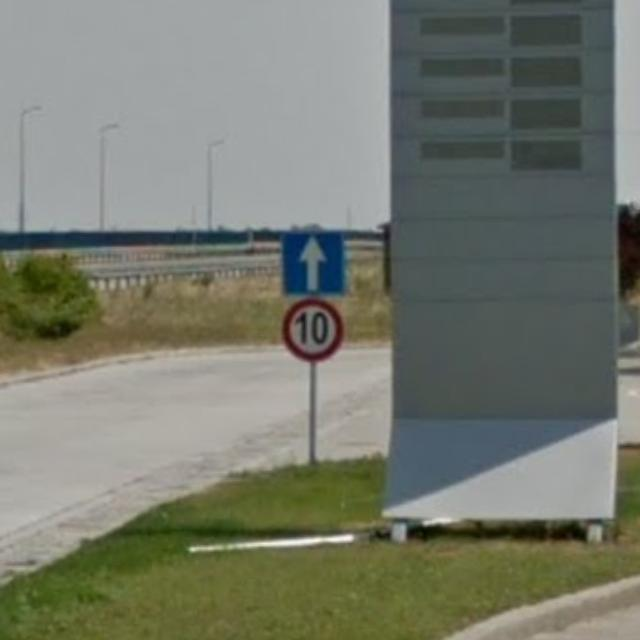forb_speed_over_10: (282, 299, 344, 362)
